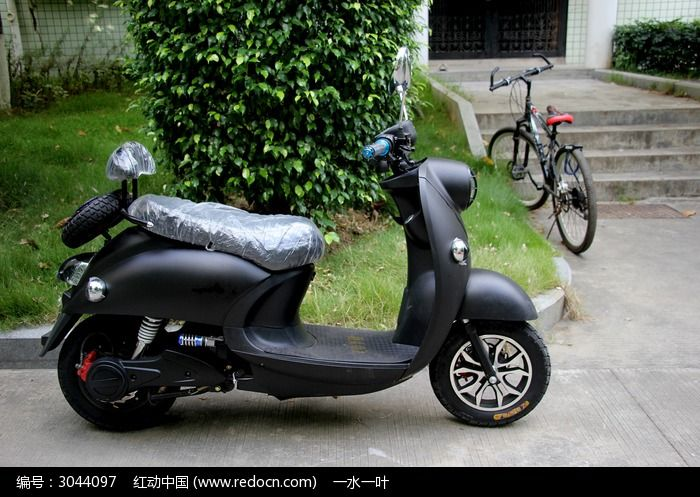MNV: (42, 116, 549, 429), (486, 60, 596, 257)
